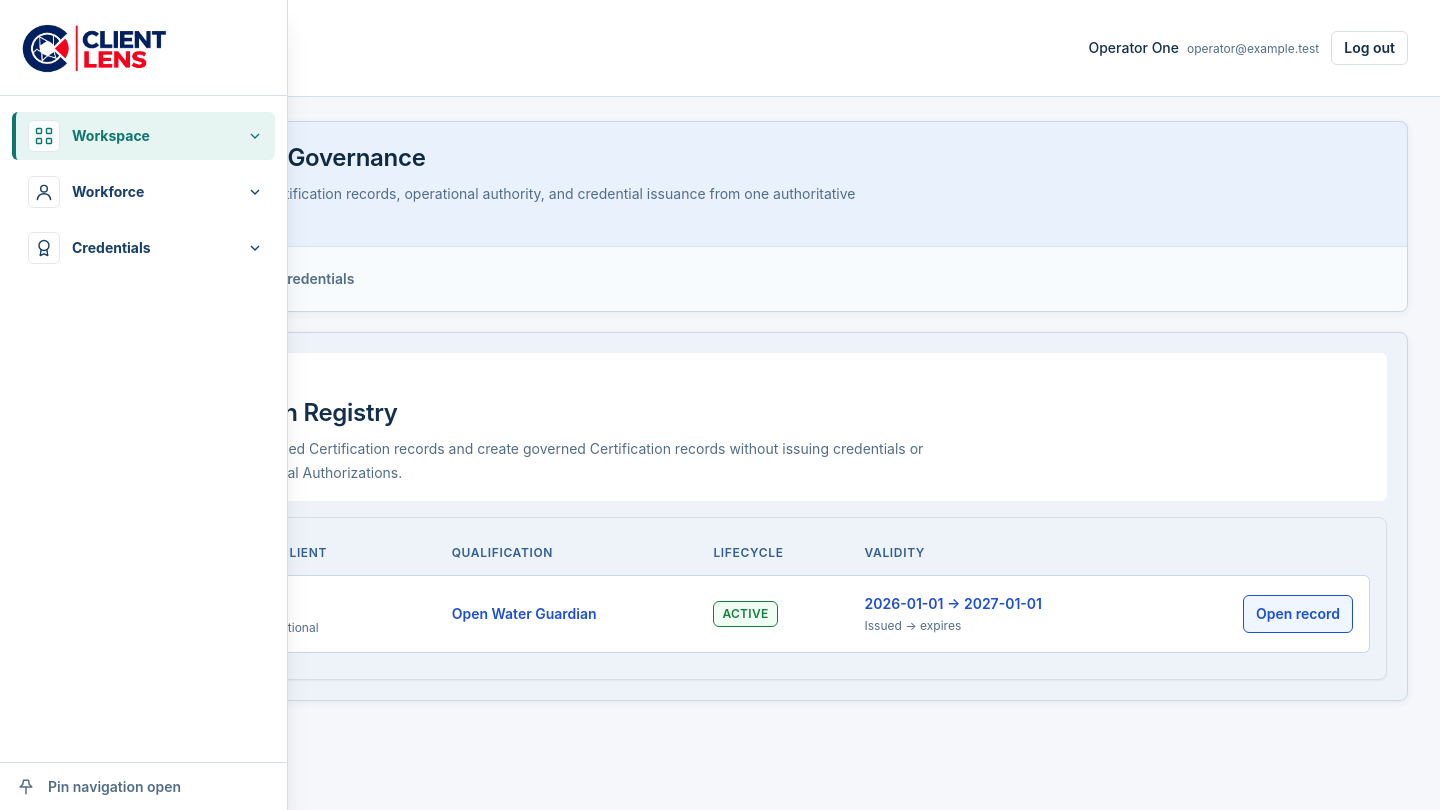
Test: Certification workspace frontend › renews Operational Authorization with exact contract and keeps previous authorization metadata read-only
Click the button with aria-label "View Certificate Details" at (1298, 614), box [1243, 595, 1353, 633]
(page scrolled)
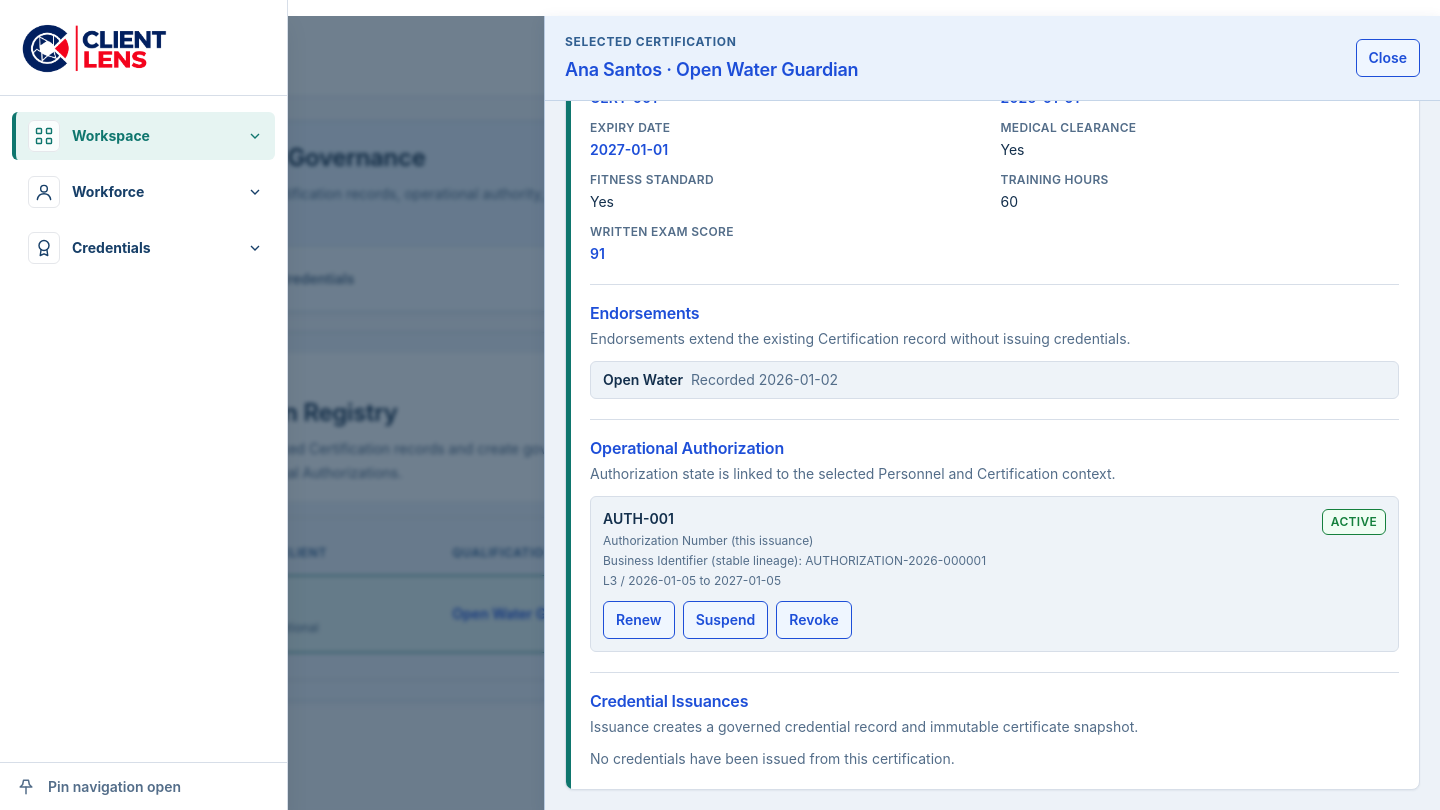
Click the button "Renew" at (639, 620), box [603, 601, 675, 639]
(page scrolled)
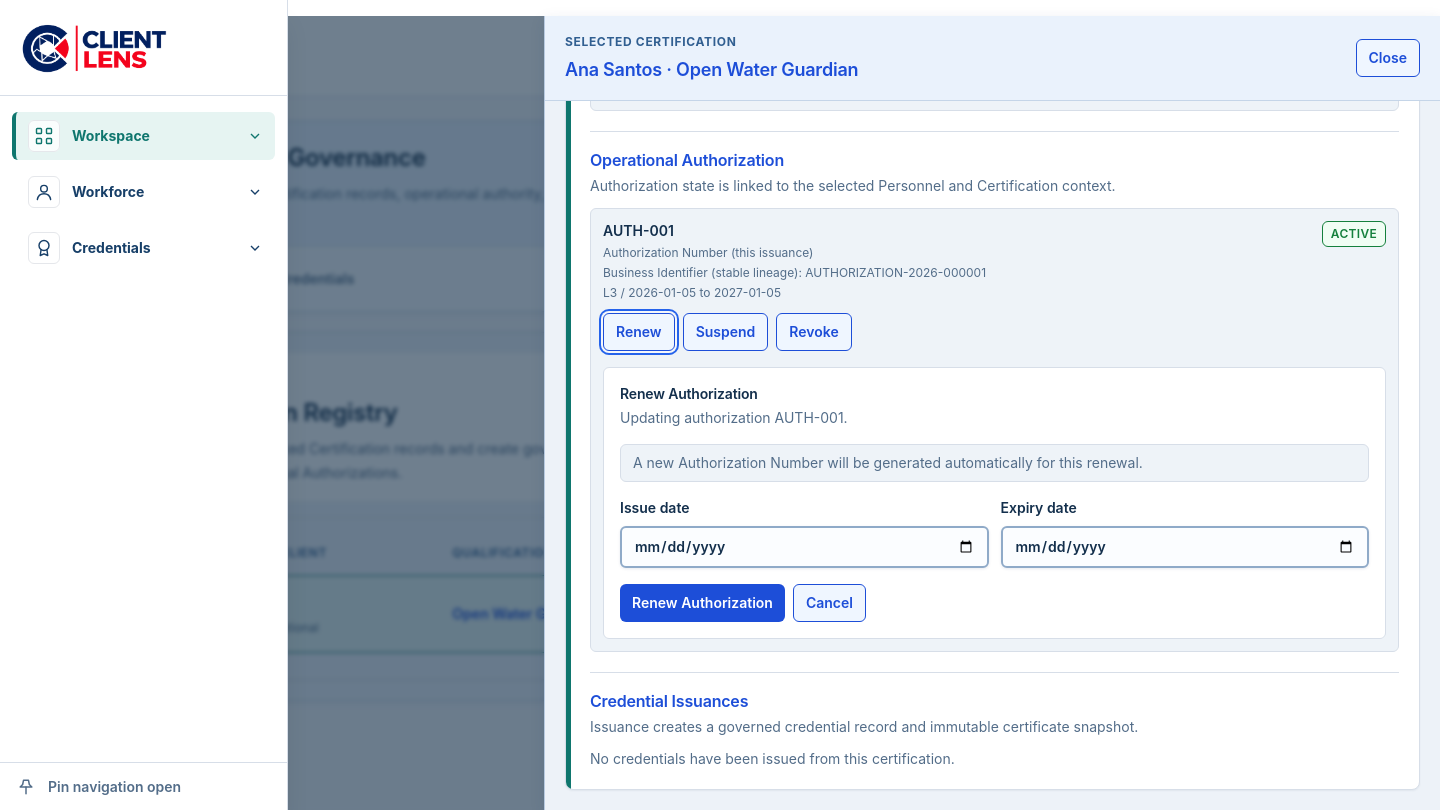
expect the text "A new Authorization Number will be generated automatically for this renewal." is shown: met, box [620, 444, 1369, 482]
Type "2026-02-01" into the date field labelled "Issue date" at (804, 547), box [620, 526, 988, 568]
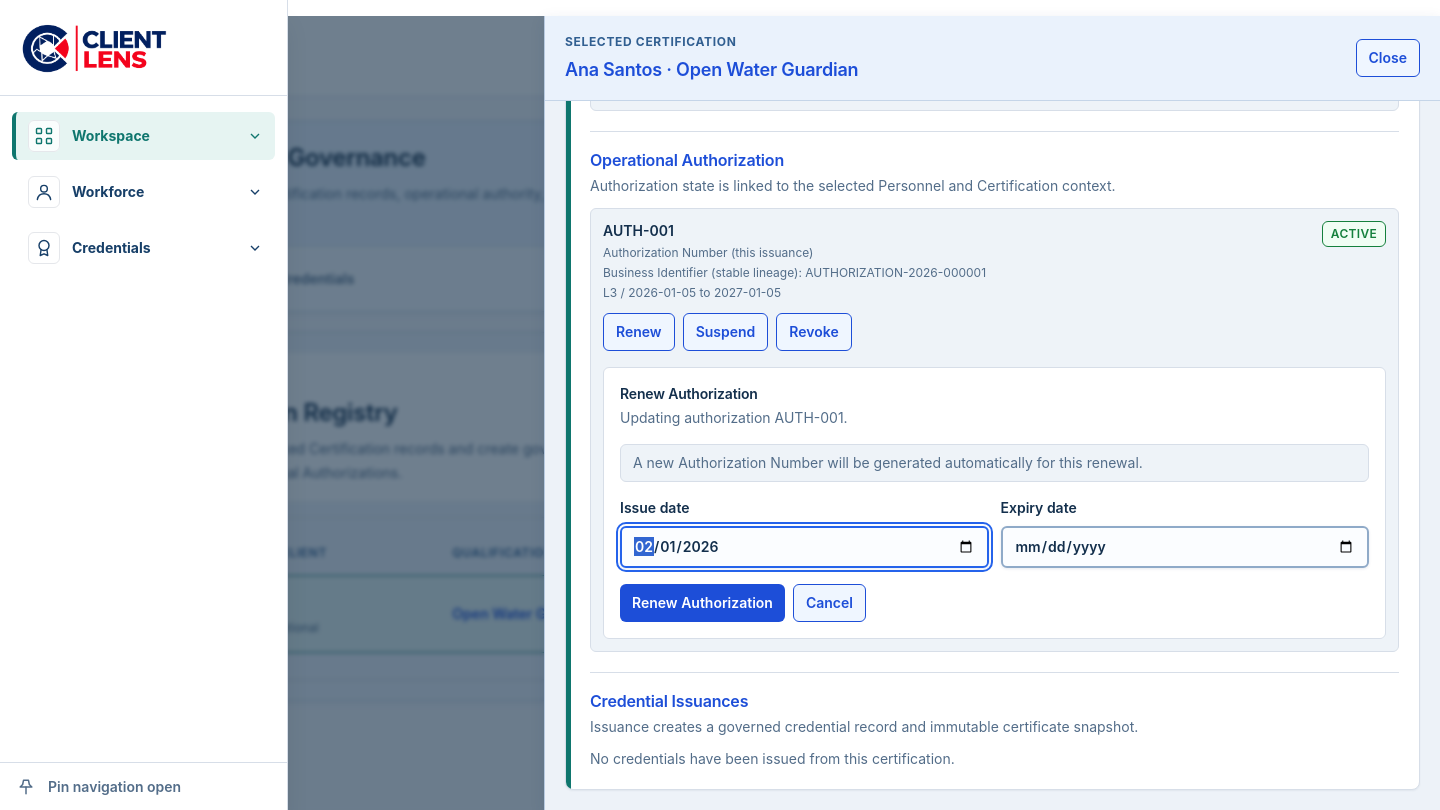
Type "2027-02-01" into the date field labelled "Expiry date" at (1185, 547), box [1000, 526, 1369, 568]
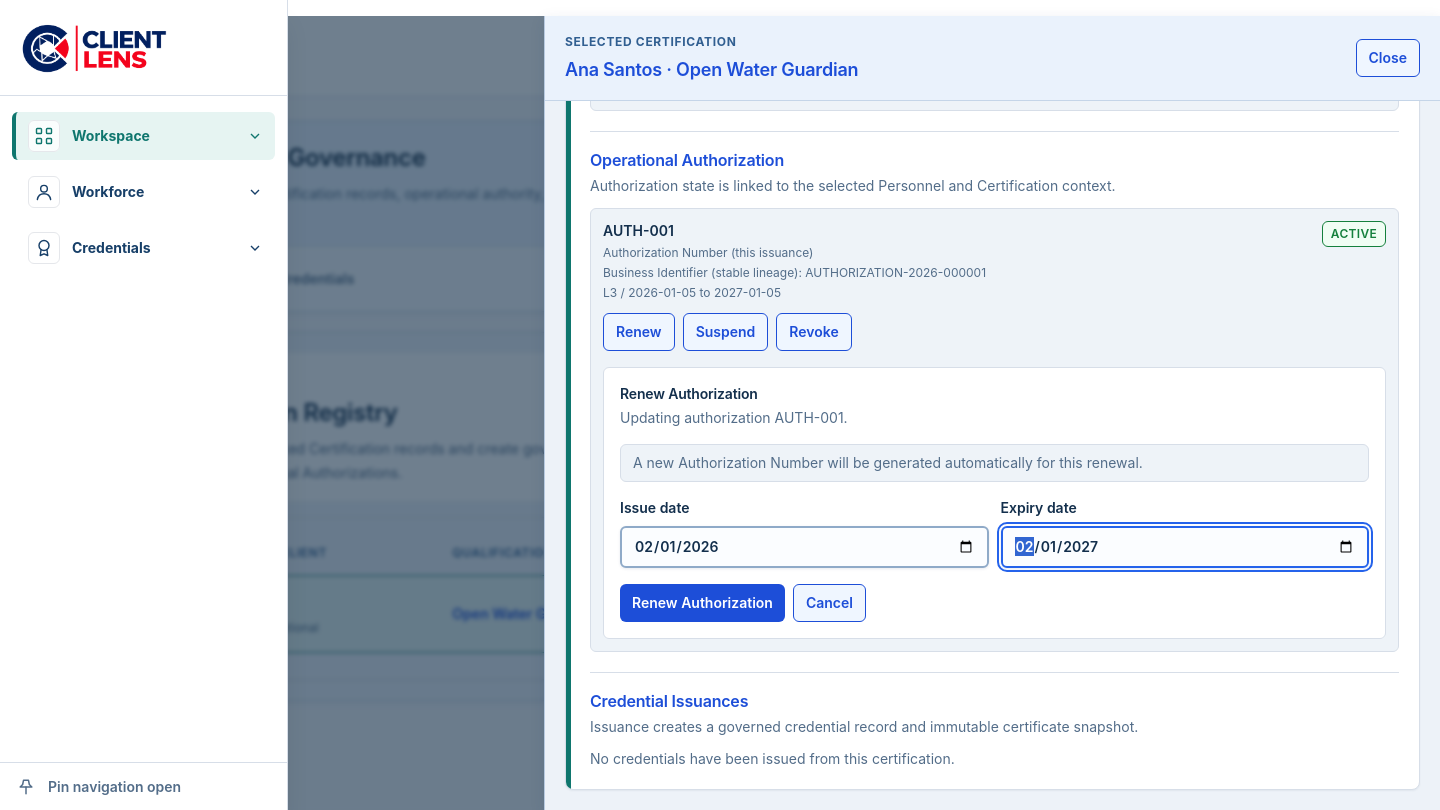
Click the button "Renew Authorization" at (702, 603), box [620, 584, 785, 622]
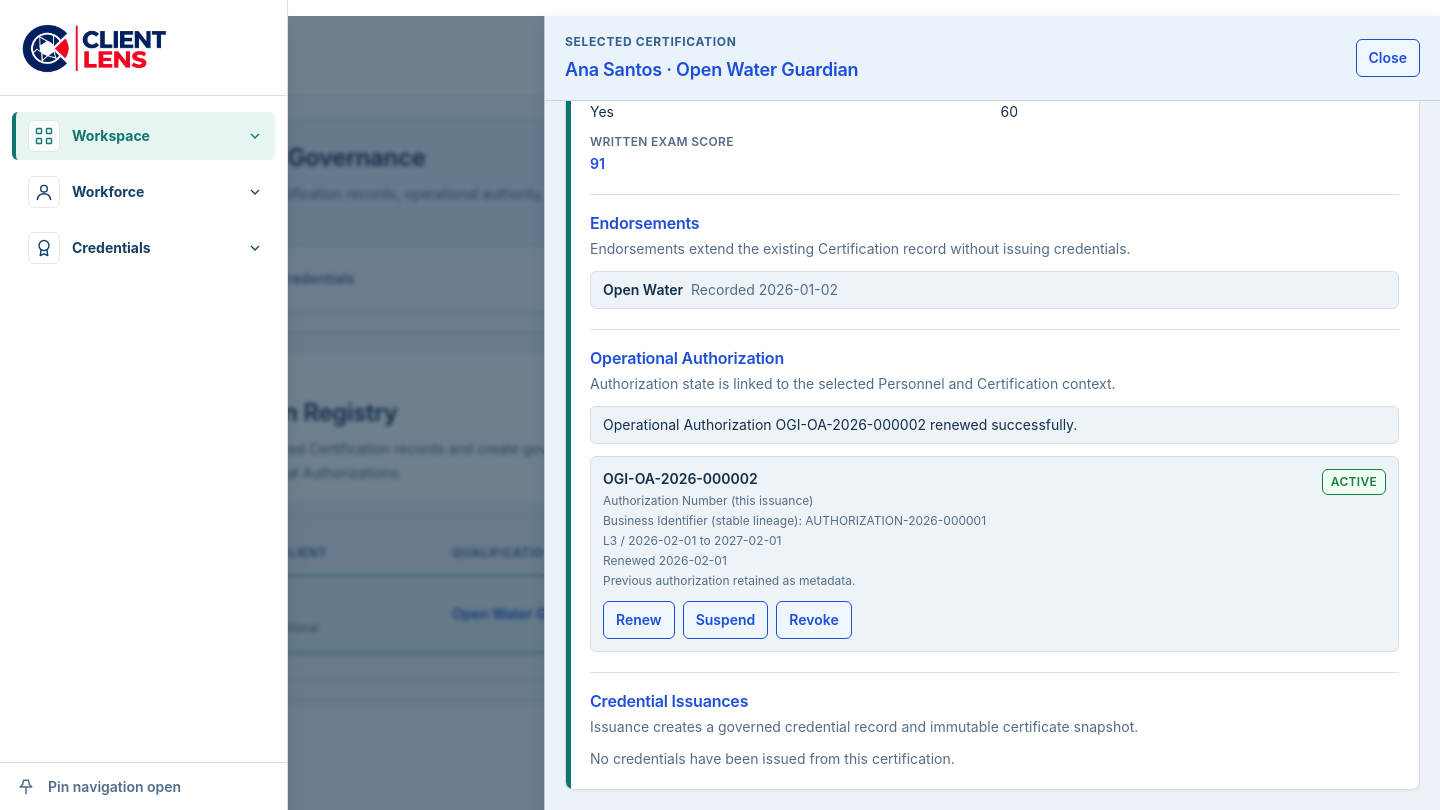
expect the text "Operational Authorization OGI-OA-2026-000002 renewed successfully." is shown: met, box [590, 406, 1399, 444]
expect the text "OGI-OA-2026-000002" is shown: met, box [603, 470, 758, 487]
expect the text "Previous authorization retained as metadata." is shown: met, box [603, 573, 856, 588]
